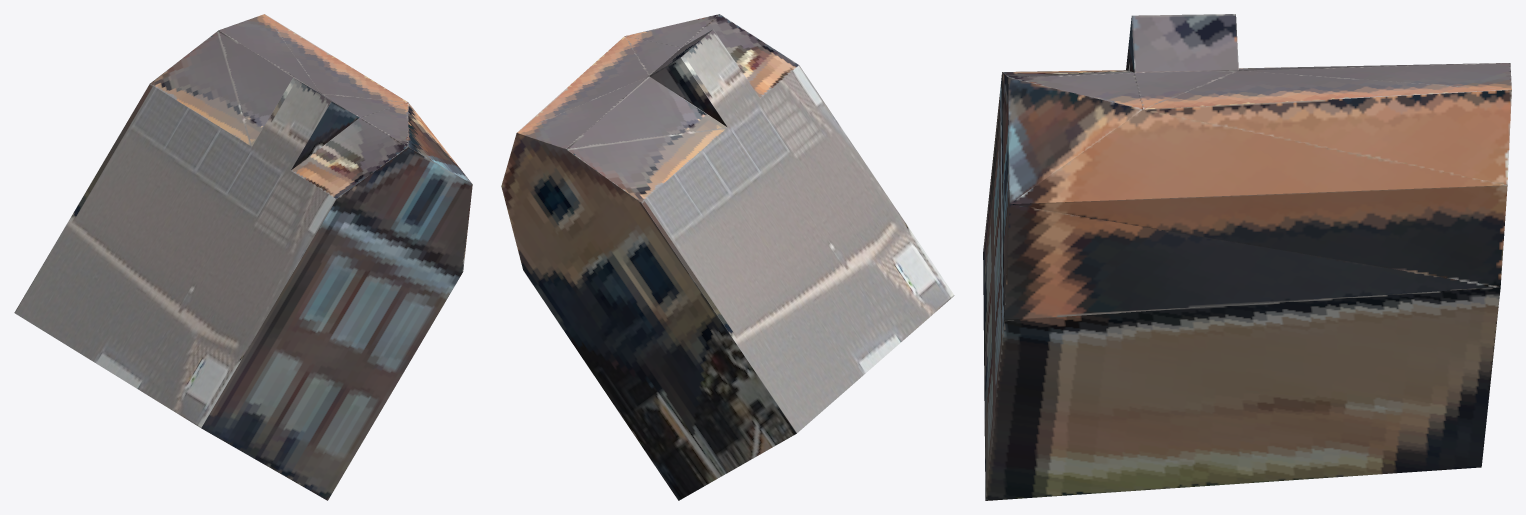
The picture shows the model from 3 angles, left to right: view 1: azimuth 30°, elevation 25°; view 2: azimuth 150°, elevation 25°; view 3: azimuth 270°, elevation 25°; orthographic projection. The views are drawn at different scales.
Parts seen in each view (by area): view 1: BAG_0599100000140595 (×5); view 2: BAG_0599100000140595 (×5); view 3: BAG_0599100000140595 (×4).
Boxes of the visible parts, left/top/right/bottom form: BAG_0599100000140595 (×5): left=14, top=14, right=472, bottom=500; BAG_0599100000140595 (×5): left=501, top=14, right=954, bottom=500; BAG_0599100000140595 (×4): left=983, top=14, right=1511, bottom=500.
Size of the model in its own units: 9.88 by 11.08 by 10.14.
7 materials, 7 textured.
